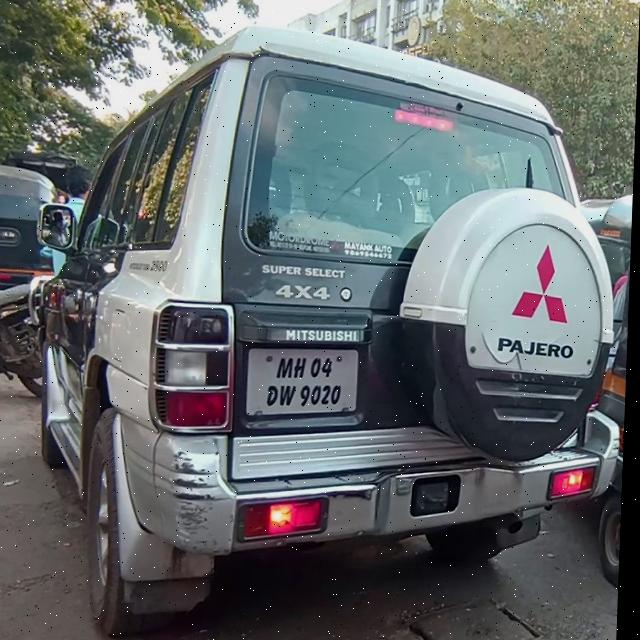plate: (247, 344, 363, 418)
